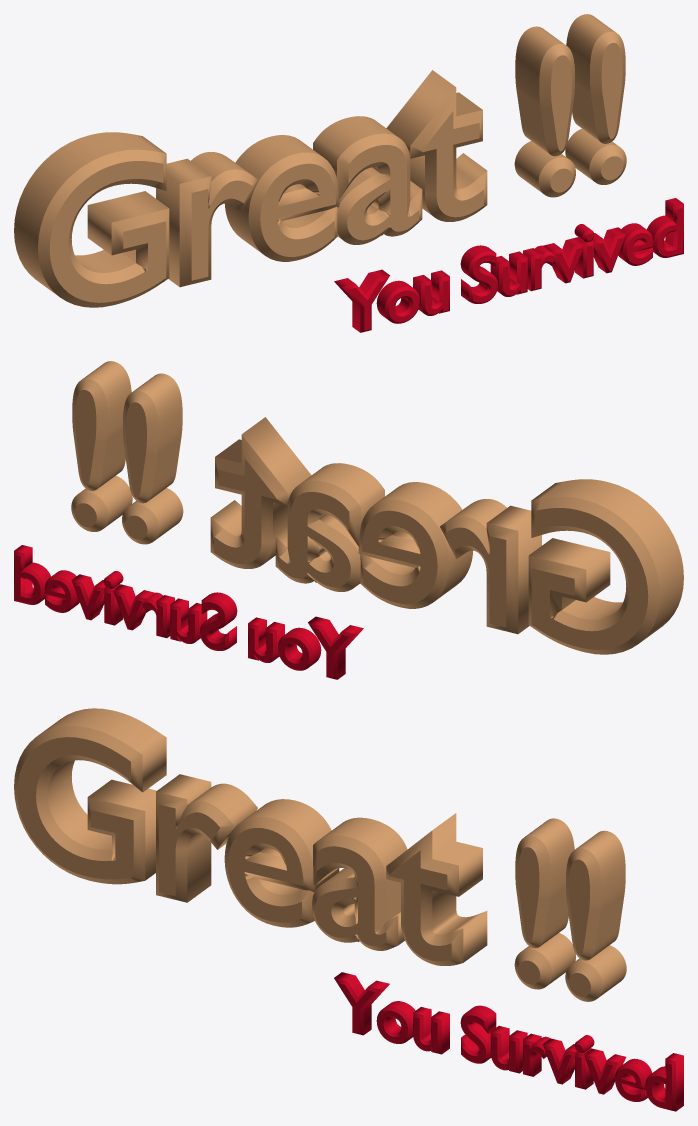
File: fireDrillOutroText.fbx
3 renders of one model, top to bottom at view 1: azimuth 30°, elevation 25°; view 2: azimuth 150°, elevation 25°; view 3: azimuth 330°, elevation 25°, orthographic.
Parts seen in each view (by area): view 1: Text.000, Text.001; view 2: Text.000, Text.001; view 3: Text.000, Text.001.
Part boxes in pixels (x1,y1,x2,y2): Text.000: (14,14,626,307); Text.001: (334,198,683,332); Text.000: (71,361,683,654); Text.001: (14,545,363,679); Text.000: (14,708,626,1001); Text.001: (334,972,683,1111).
Bounding box in the file's own units: 329 × 120 × 28.41.
